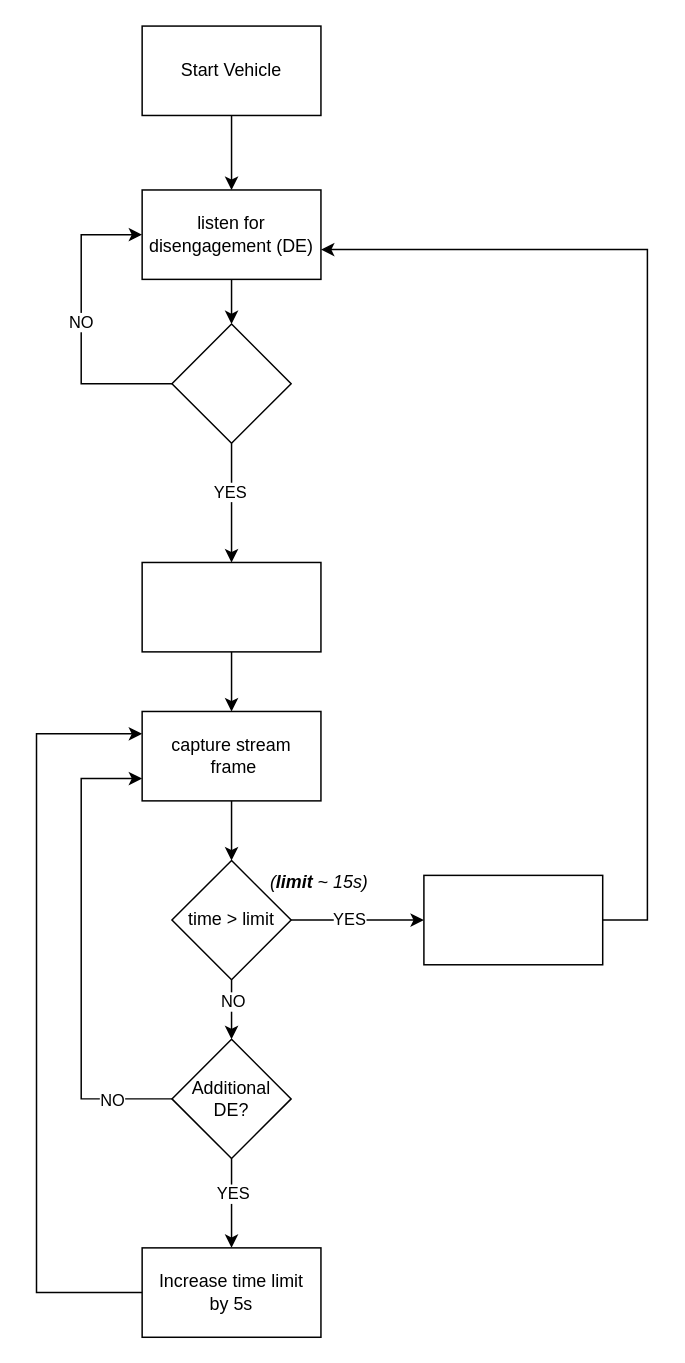
Image size: 685x1363. Some labels were removed from this diagram. Each missing label, with the box of its shape:
DE?: (170, 323, 291, 443)
Save recording (time = final): (422, 874, 603, 965)
Start video record (time = 0): (141, 561, 321, 652)
